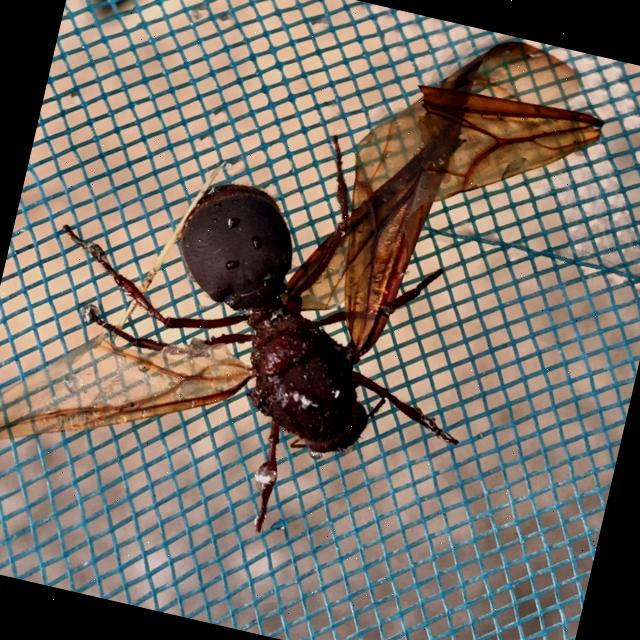Dead-Female-Alate: (0, 0, 618, 588)
